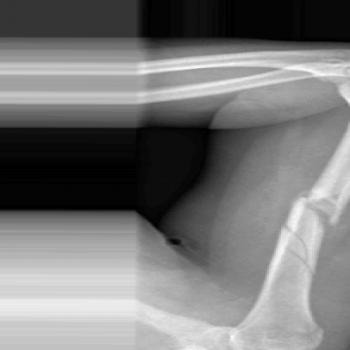Fracture: (266, 227, 340, 282), (276, 186, 350, 228)
